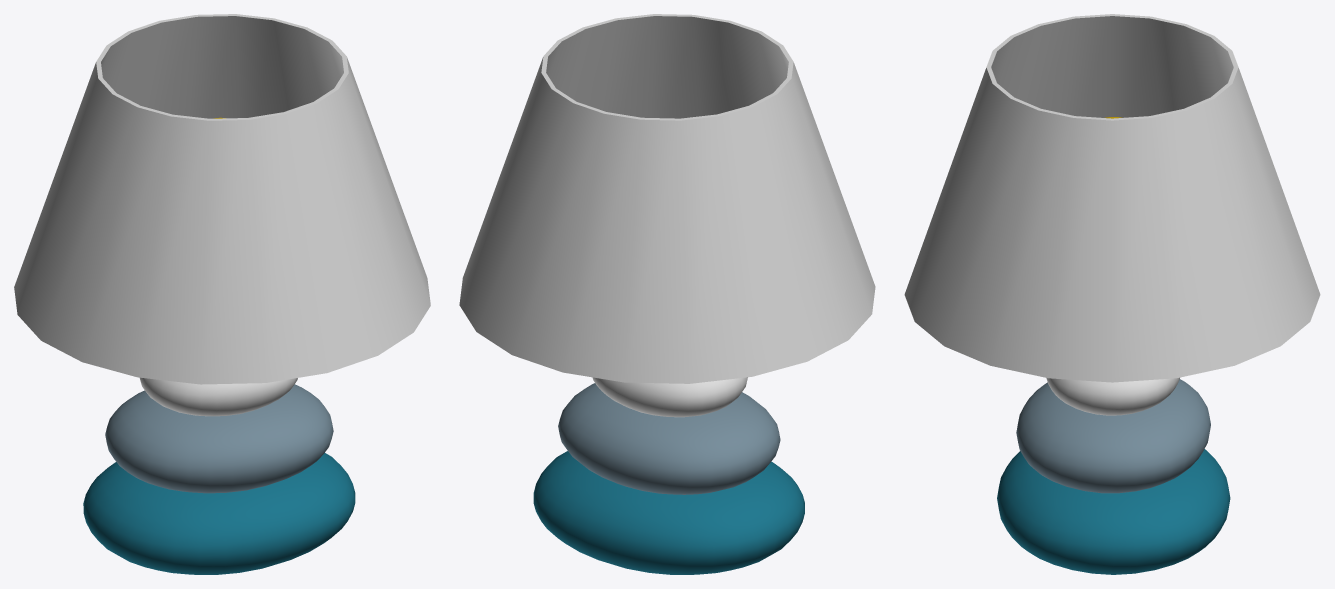
File: LampeChevet4_3.fbx
The picture shows the model from 3 angles, left to right: view 1: azimuth 30°, elevation 25°; view 2: azimuth 150°, elevation 25°; view 3: azimuth 270°, elevation 25°; orthographic projection.
Parts seen in each view (by area): view 1: pPipe113, pCube2040, pCube2042, pCube2043; view 2: pPipe113, pCube2040, pCube2042, pCube2043; view 3: pPipe113, pCube2040, pCube2042, pCube2043.
Boxes of the visible parts, left/top/right/bottom form: pPipe113: left=14, top=14, right=430, bottom=384; pCube2040: left=83, top=453, right=355, bottom=574; pCube2042: left=105, top=384, right=333, bottom=493; pCube2043: left=139, top=377, right=297, bottom=416; pPipe113: left=459, top=14, right=875, bottom=383; pCube2040: left=533, top=451, right=804, bottom=574; pCube2042: left=558, top=383, right=780, bottom=494; pCube2043: left=592, top=377, right=747, bottom=417; pPipe113: left=904, top=14, right=1320, bottom=382; pCube2040: left=997, top=449, right=1230, bottom=574; pCube2042: left=1016, top=379, right=1210, bottom=493; pCube2043: left=1046, top=377, right=1179, bottom=415.
Size of the model in its own units: 15.06 by 19.14 by 15.06.
